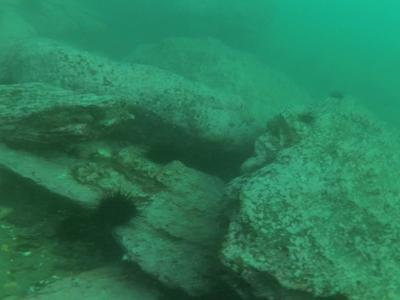urchin: (94, 188, 135, 228)
